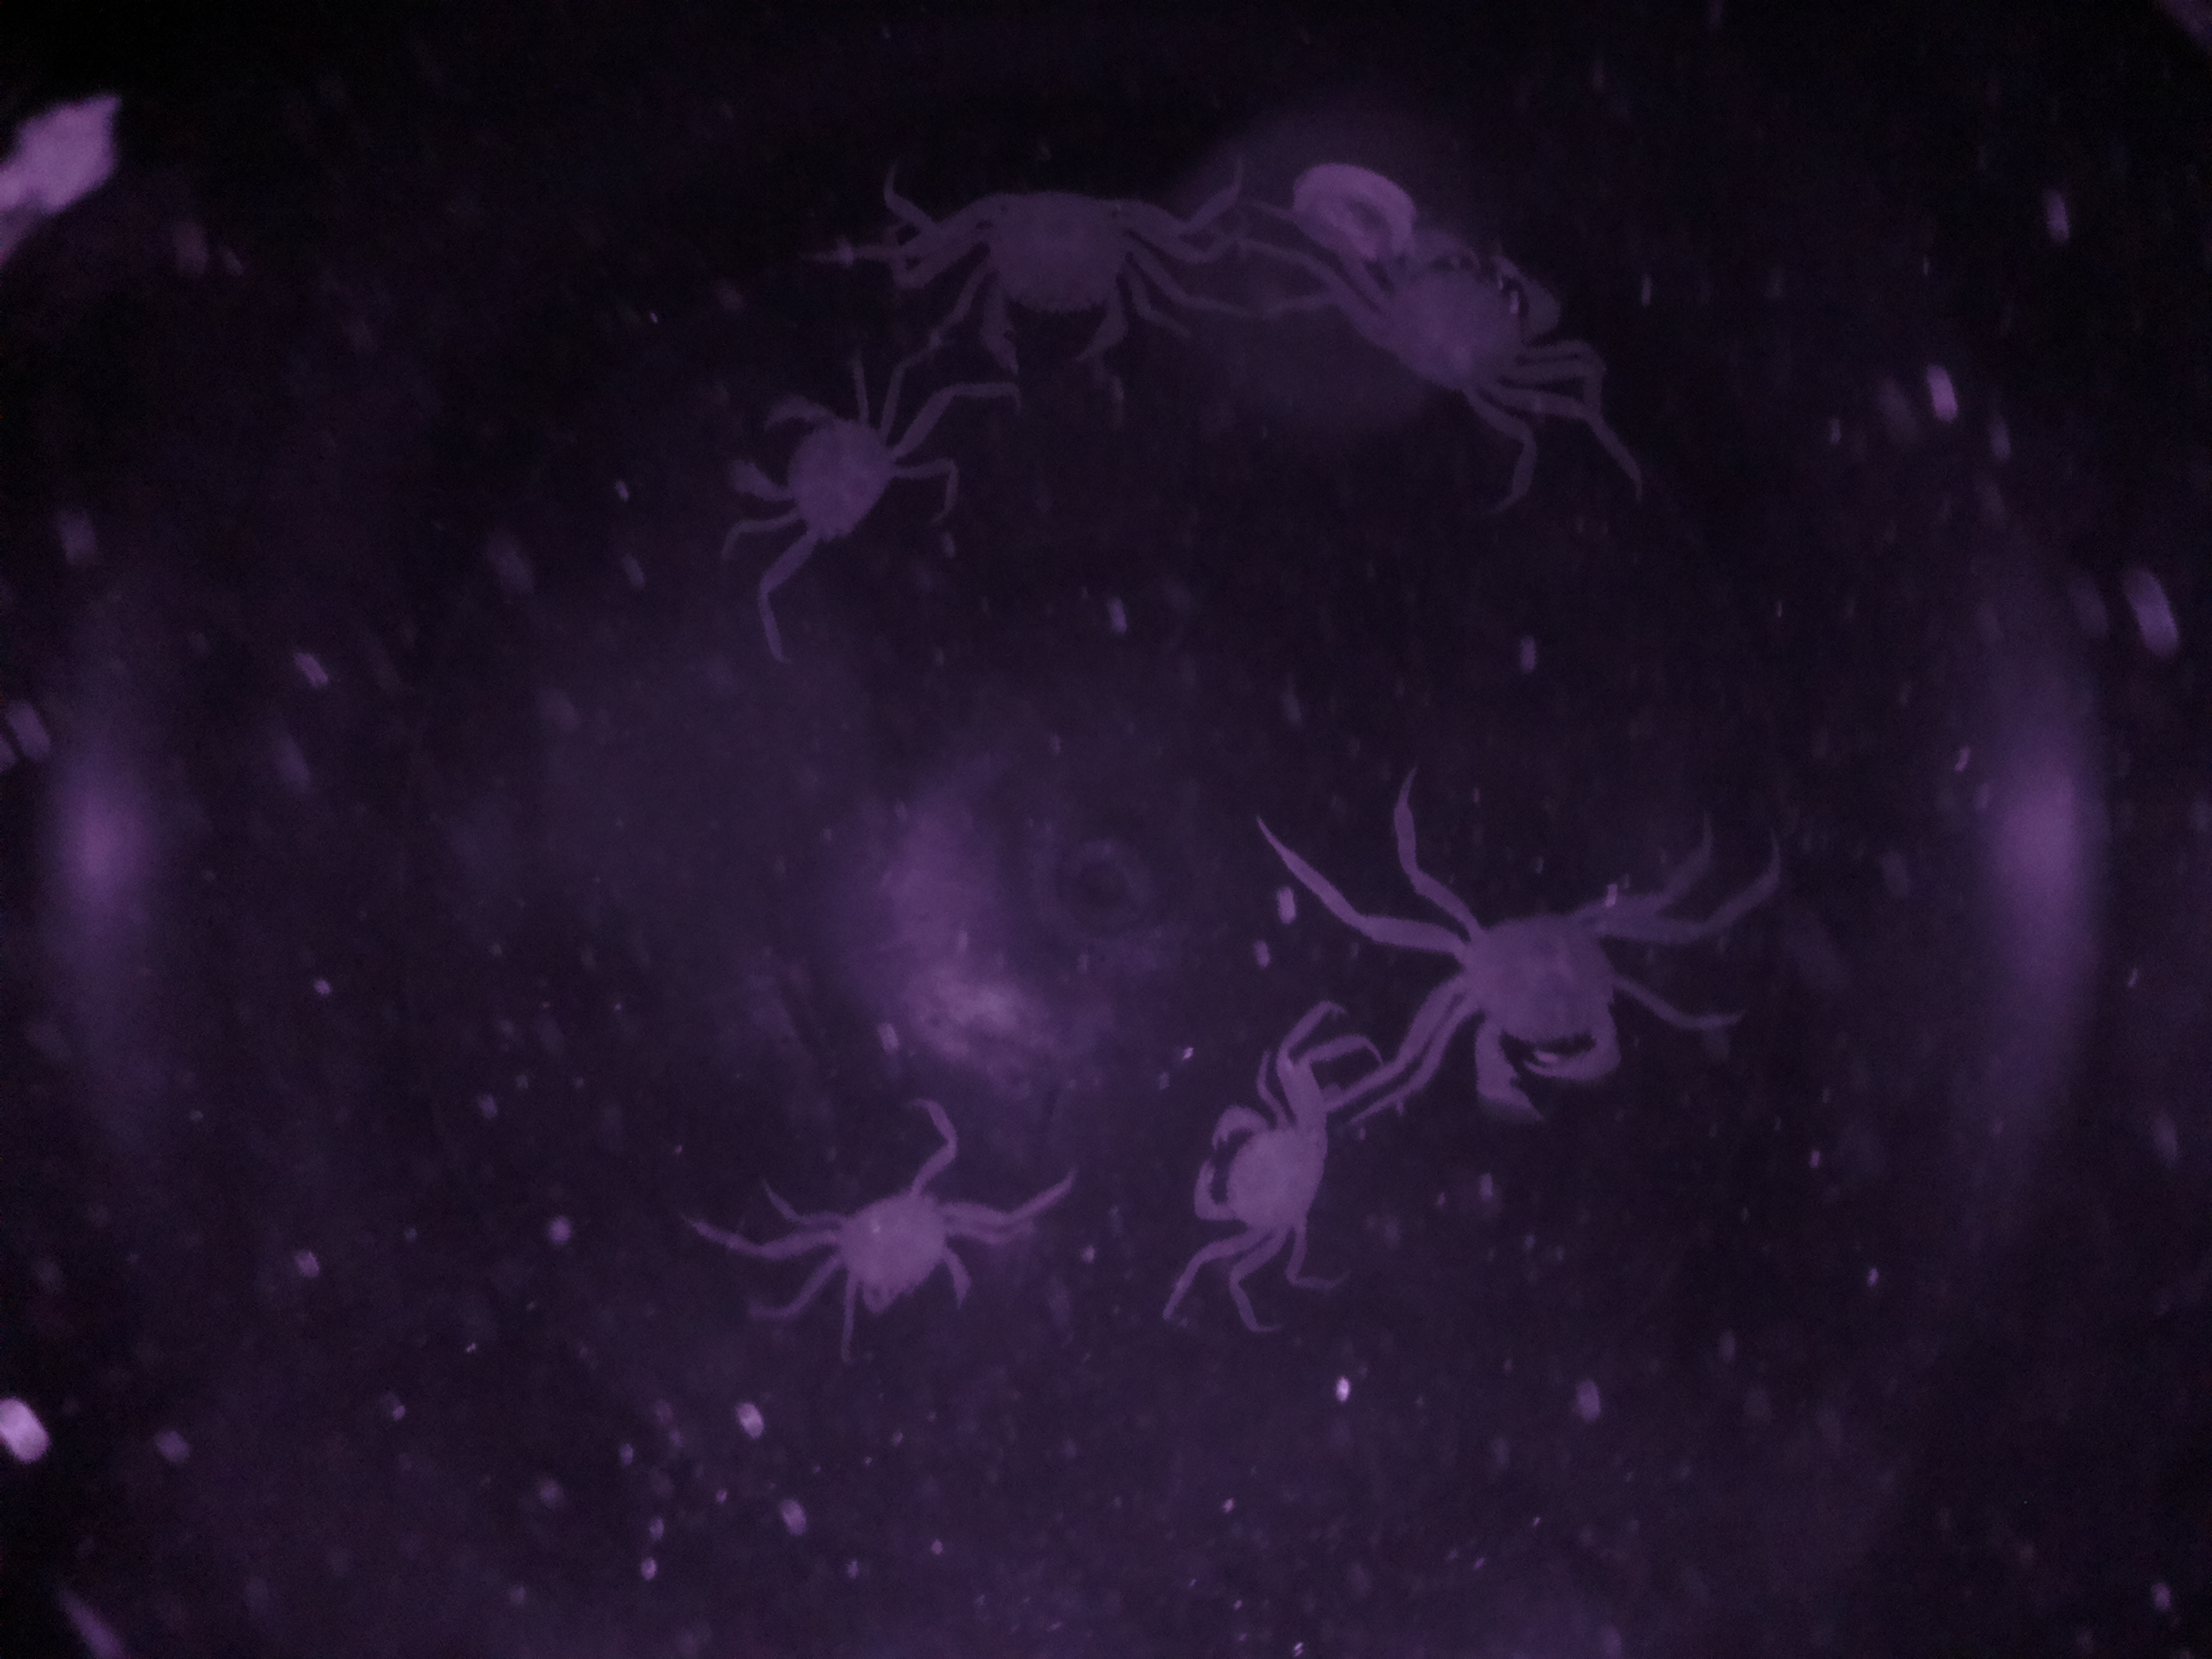Crab: (1362, 864, 1689, 1148), (1313, 206, 1620, 460), (913, 153, 1212, 397), (744, 1150, 1026, 1344), (711, 387, 970, 591), (1176, 1044, 1343, 1312)
